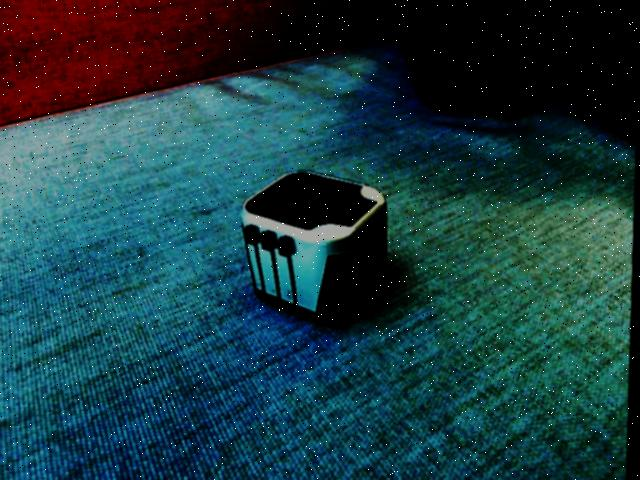adapter: (239, 169, 392, 325)
